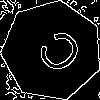C: (27, 26, 86, 84)
